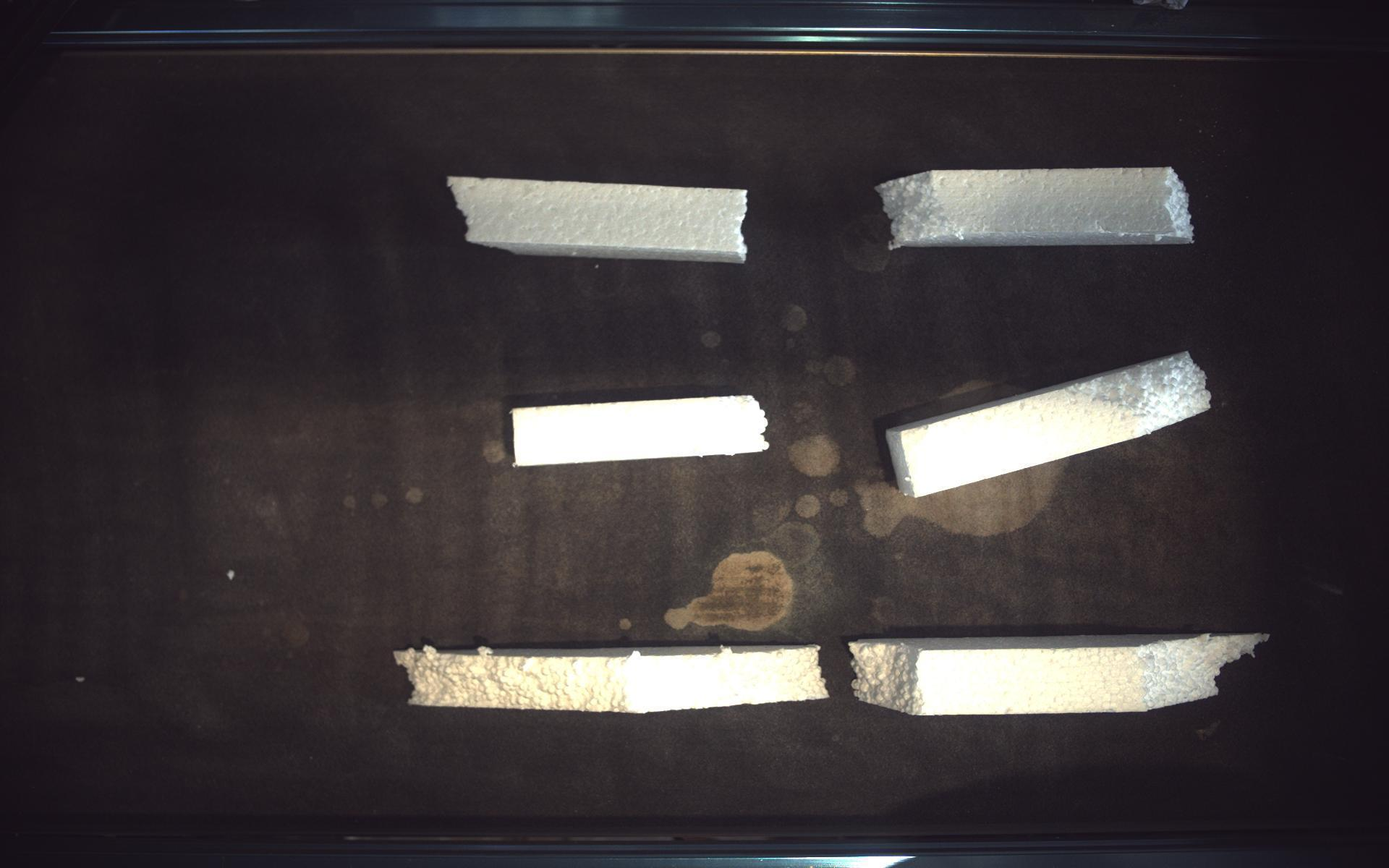foam: (888, 352, 1213, 497), (851, 634, 1272, 717), (394, 646, 829, 715), (448, 175, 748, 263), (878, 166, 1196, 248), (511, 395, 770, 467)
